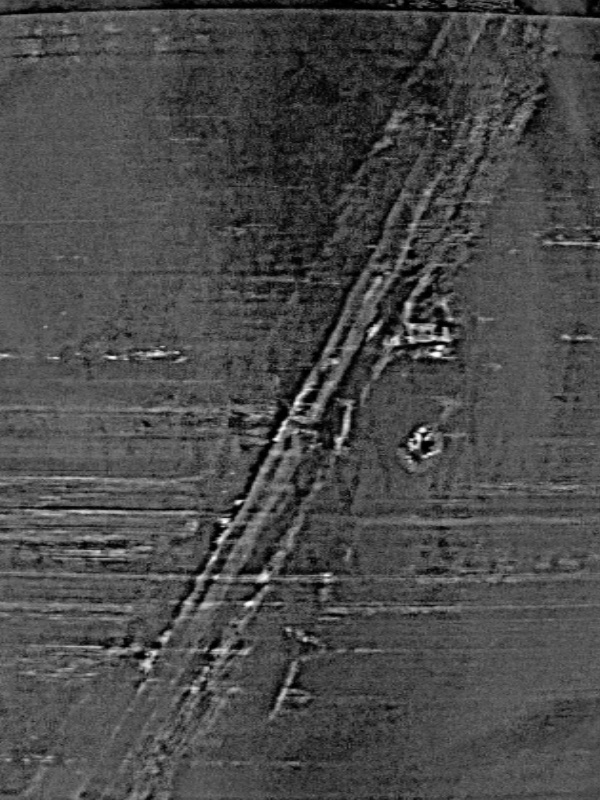splice_vulcanized: (28, 10, 552, 800)
